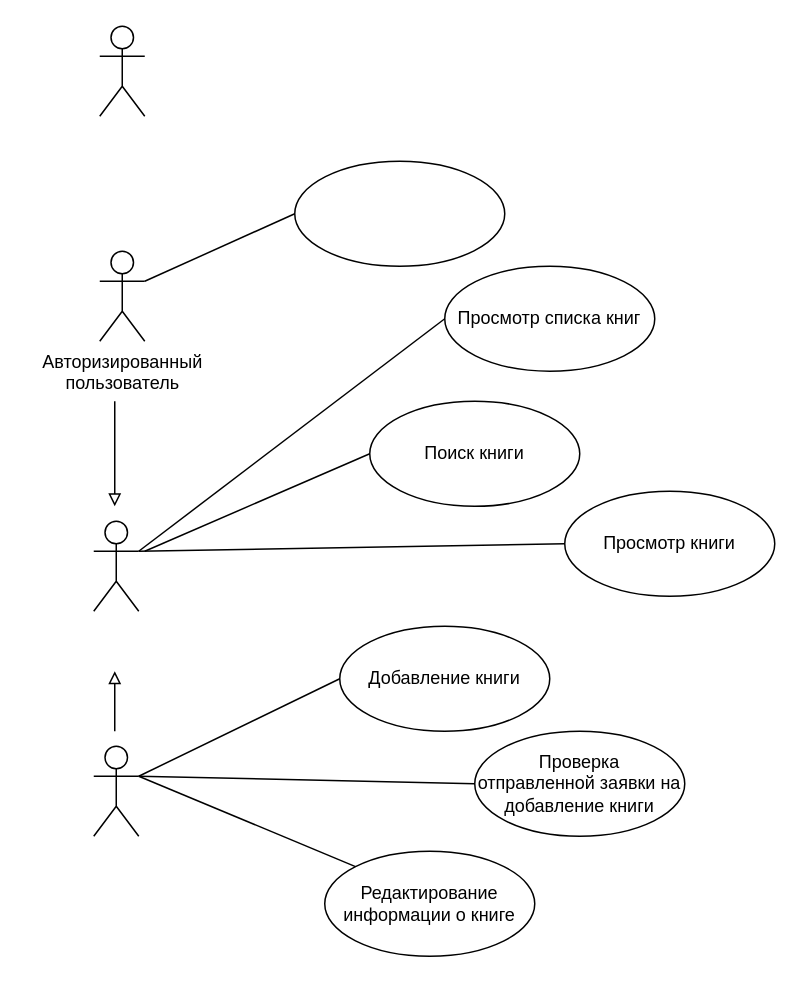
Image size: 801x983. Some labels were removed from this diagram. The shapes that lost their labels are listed below. From the top down, each one's centre as x and y in pixels, then its label:
At [121,70]: "Модератор".
At [399,213]: "Отправление заявки на добавление книги".
At [115,565]: "Неавторизированный пользователь".
At [115,790]: "Контент-менеджер".
